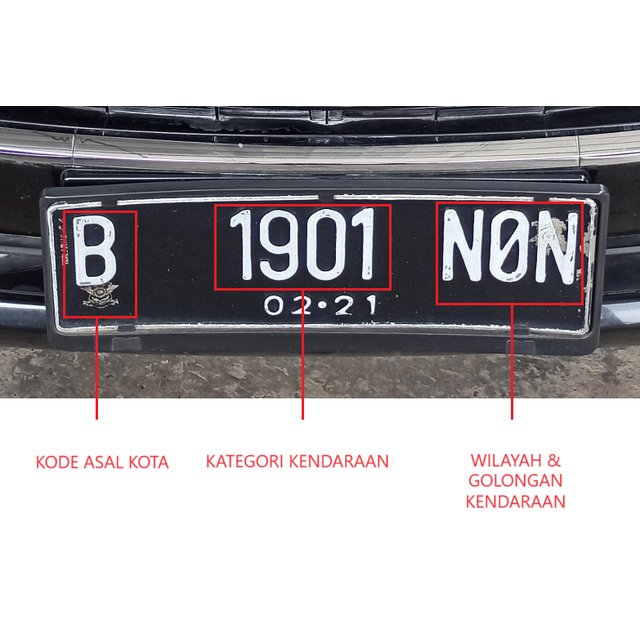contain: (88, 134, 142, 225), (370, 124, 422, 216), (541, 122, 591, 217), (316, 124, 368, 213), (426, 123, 471, 216), (597, 127, 640, 218), (276, 124, 312, 214)
